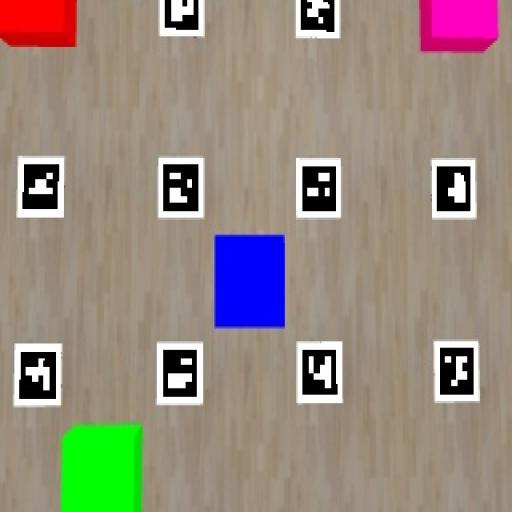car: (61, 423, 143, 511), (215, 235, 286, 328), (420, 0, 499, 53)
fire: (0, 0, 76, 46)
